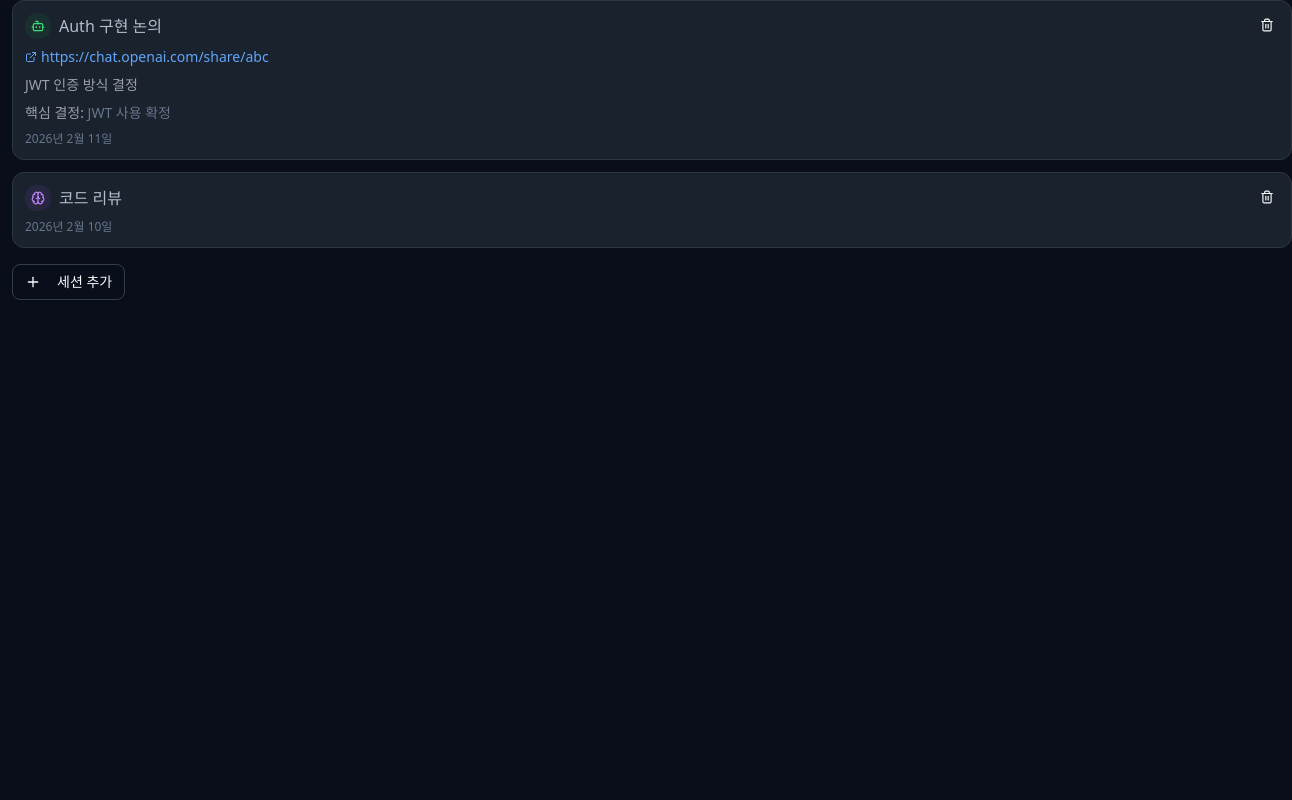
Test case: TabAISessions › toggles add form on button click
Check: the field labelled "제목" is not shown
Click the button "세션 추가".
click(69, 282)  # box [12,264,125,300]
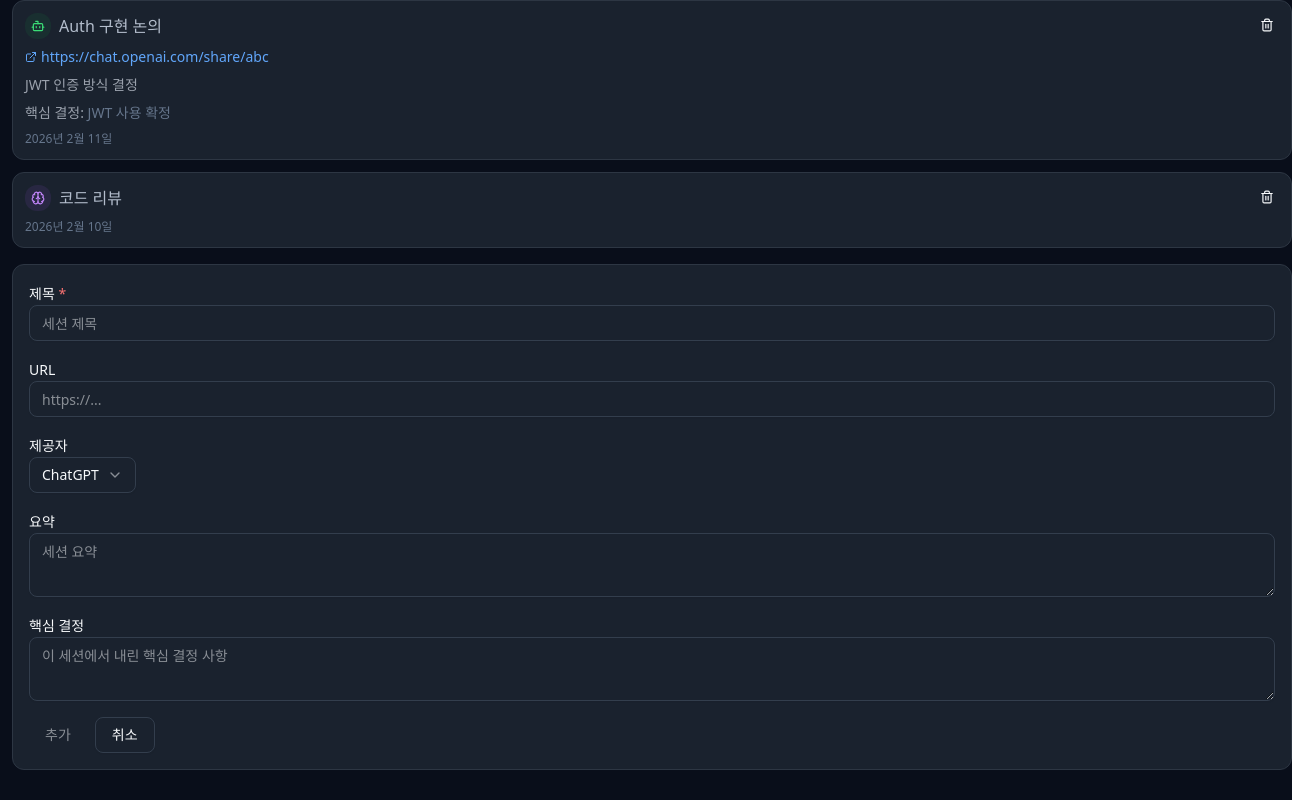
Check: the field labelled "제목 *" is shown, box [29,305,1275,341]
Check: the field labelled "URL" is shown, box [29,381,1275,417]
Check: the text box labelled "요약" is shown, box [29,533,1275,597]
